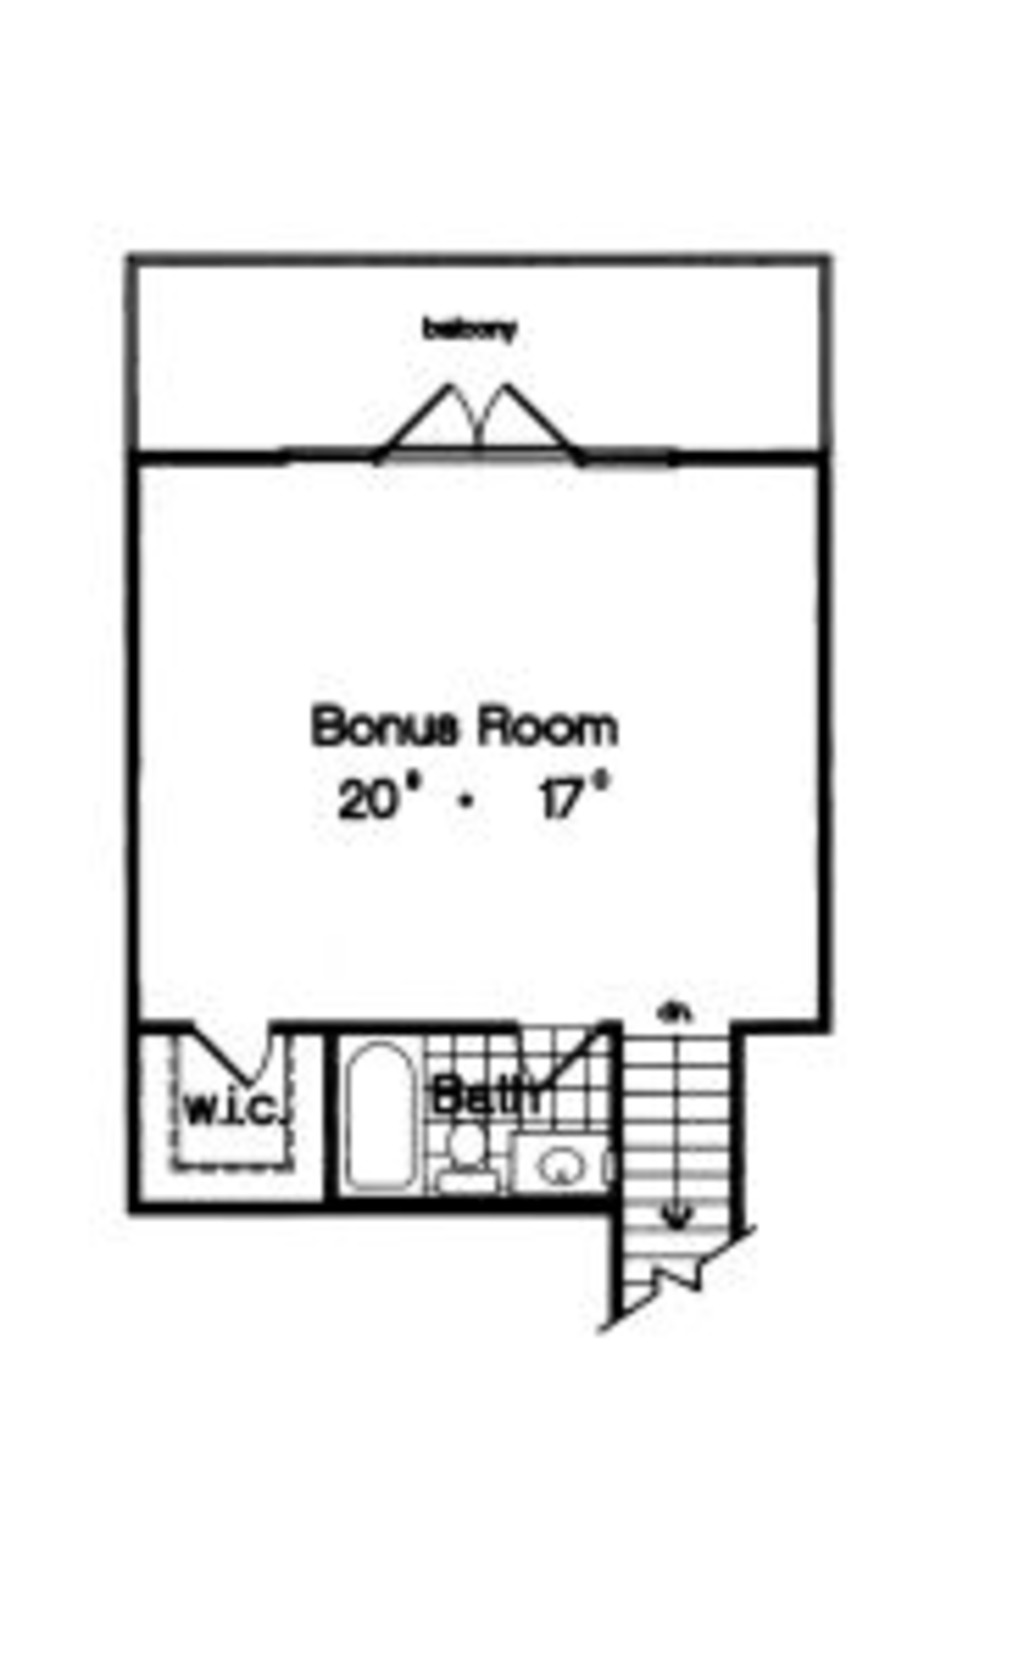door: (353, 365, 597, 481), (512, 1009, 599, 1096), (192, 1014, 276, 1105)
large_sink: (422, 1096, 505, 1194)
small_sink: (522, 1117, 619, 1206)
stairs: (619, 998, 753, 1330)
tub: (333, 1035, 420, 1199)
